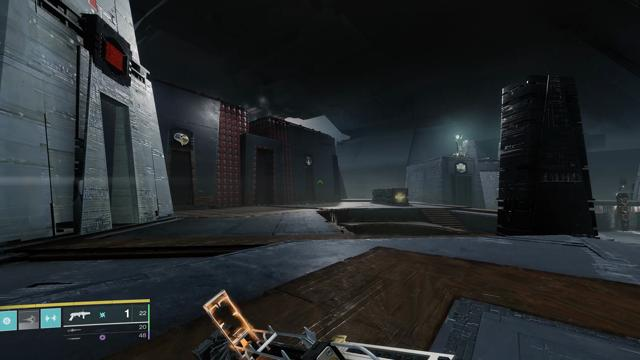brain: (172, 130, 191, 147)
commune: (457, 163, 466, 173)
drink: (305, 154, 313, 166)
stop: (103, 36, 127, 76)
